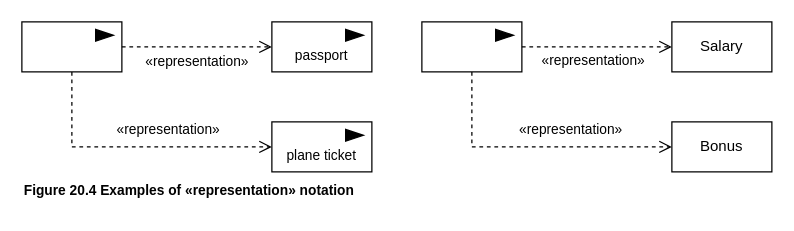
Image size: 794x231. Some labels were removed from this diagram. Each missing label, with the centre of its shape:
travel document: the point at 71,46
Wage: the point at 471,46
